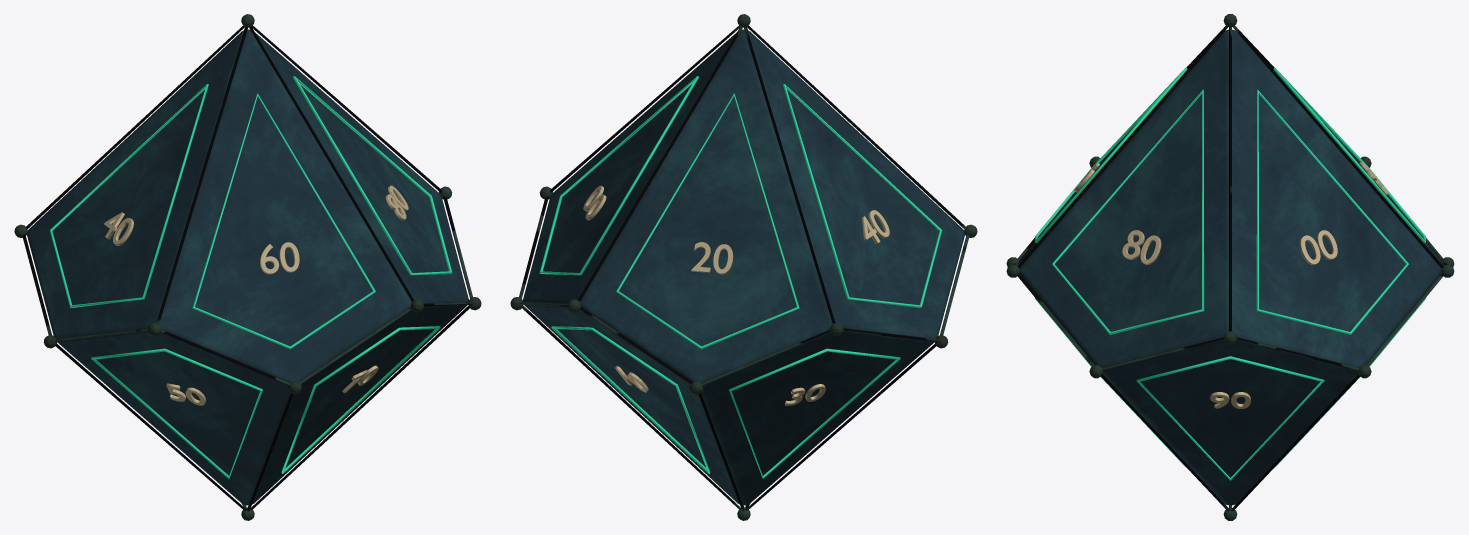
Rendered from D10_百分骰_00-90_baked.glb.
3 renders of one model, left to right at view 1: azimuth 30°, elevation 25°; view 2: azimuth 150°, elevation 25°; view 3: azimuth 270°, elevation 25°, orthographic.
Parts seen in each view (by area): view 1: D10_00_90_Body_10_Faces, D10_00_90_Aged_Bronze_Edges, D10_00_90_Occult_Face_Borders, D10_00_90_Vertex_Studs, D10_00_90_Face_07_60, D10_00_90_Face_05_40; view 2: D10_00_90_Body_10_Faces, D10_00_90_Aged_Bronze_Edges, D10_00_90_Occult_Face_Borders, D10_00_90_Vertex_Studs, D10_00_90_Face_03_20, D10_00_90_Face_05_40; view 3: D10_00_90_Body_10_Faces, D10_00_90_Occult_Face_Borders, D10_00_90_Aged_Bronze_Edges, D10_00_90_Vertex_Studs, D10_00_90_Face_09_80, D10_00_90_Face_01_00.
Part boxes in pixels (left/top/right/bottom): D10_00_90_Body_10_Faces: left=27, top=29, right=468, bottom=505; D10_00_90_Aged_Bronze_Edges: left=22, top=25, right=472, bottom=511; D10_00_90_Occult_Face_Borders: left=50, top=76, right=452, bottom=478; D10_00_90_Vertex_Studs: left=14, top=14, right=481, bottom=520; D10_00_90_Face_07_60: left=260, top=242, right=299, bottom=274; D10_00_90_Face_05_40: left=104, top=212, right=133, bottom=245; D10_00_90_Body_10_Faces: left=523, top=29, right=964, bottom=505; D10_00_90_Aged_Bronze_Edges: left=519, top=25, right=969, bottom=511; D10_00_90_Occult_Face_Borders: left=539, top=76, right=941, bottom=478; D10_00_90_Vertex_Studs: left=510, top=14, right=977, bottom=520; D10_00_90_Face_03_20: left=691, top=242, right=733, bottom=274; D10_00_90_Face_05_40: left=861, top=210, right=889, bottom=244; D10_00_90_Body_10_Faces: left=1018, top=29, right=1442, bottom=505; D10_00_90_Occult_Face_Borders: left=1035, top=67, right=1425, bottom=480; D10_00_90_Aged_Bronze_Edges: left=1013, top=25, right=1447, bottom=511; D10_00_90_Vertex_Studs: left=1006, top=14, right=1454, bottom=520; D10_00_90_Face_09_80: left=1122, top=230, right=1161, bottom=264; D10_00_90_Face_01_00: left=1299, top=230, right=1337, bottom=264.
Size of the model in its own units: 3.76 by 4.47 by 3.58.
14 materials, 13 textured.
